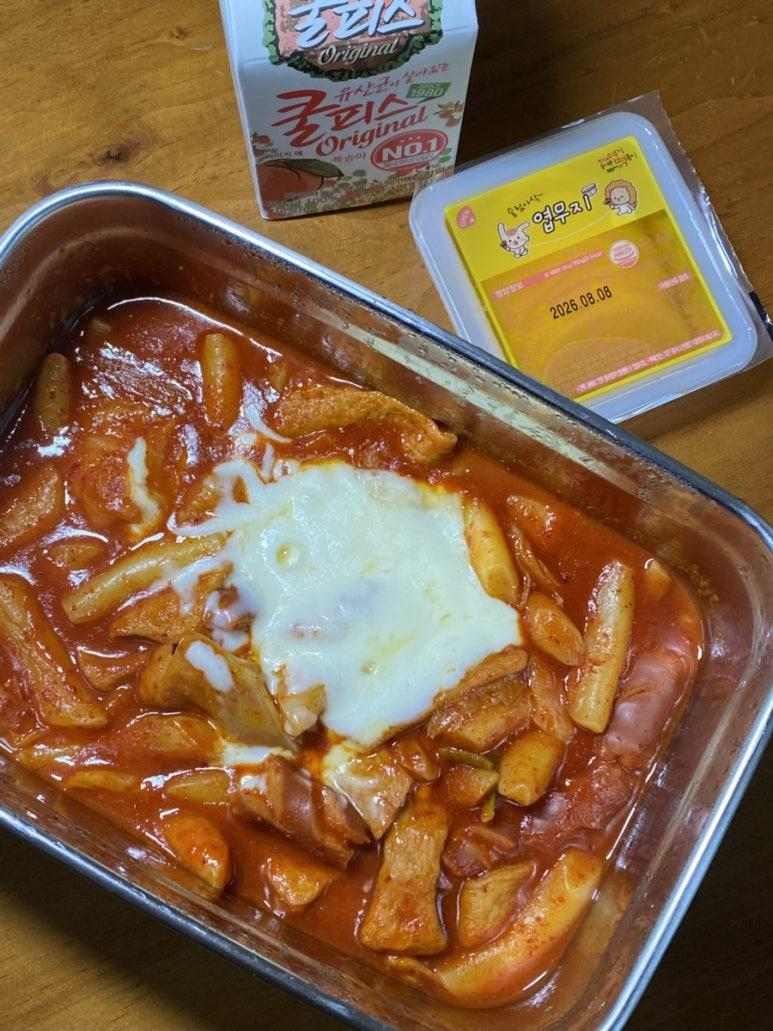Lunch Box: (0, 182, 772, 1030), (409, 93, 772, 422)
